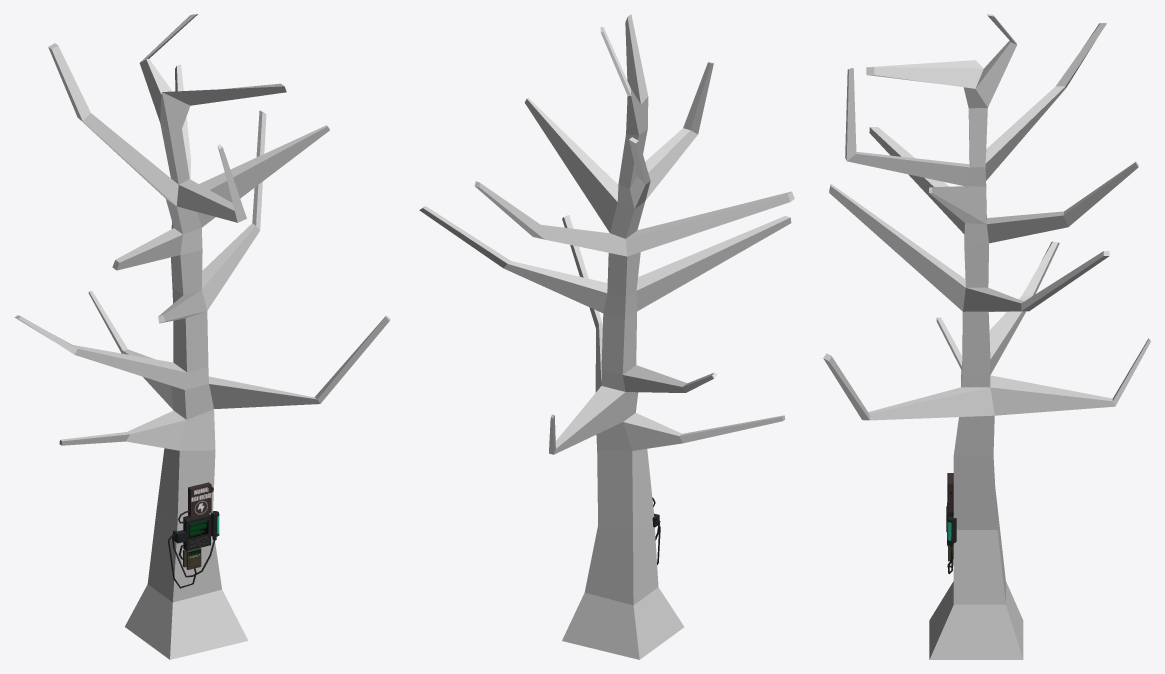
File: CyberTree_Full.fbx
3 renders of one model, left to right at view 1: azimuth 30°, elevation 25°; view 2: azimuth 150°, elevation 25°; view 3: azimuth 270°, elevation 25°, orthographic. The views are drawn at different scales.
Parts seen in each view (by area): view 1: CyberTree; view 2: CyberTree; view 3: CyberTree.
Boxes of the visible parts, x1=… form: CyberTree: x1=14, y1=14, x2=390, y2=659; CyberTree: x1=419, y1=14, x2=794, y2=659; CyberTree: x1=823, y1=14, x2=1150, y2=659.
Bounding box in the file's own units: 955 × 917 × 1955.
7 materials, 5 textured.
